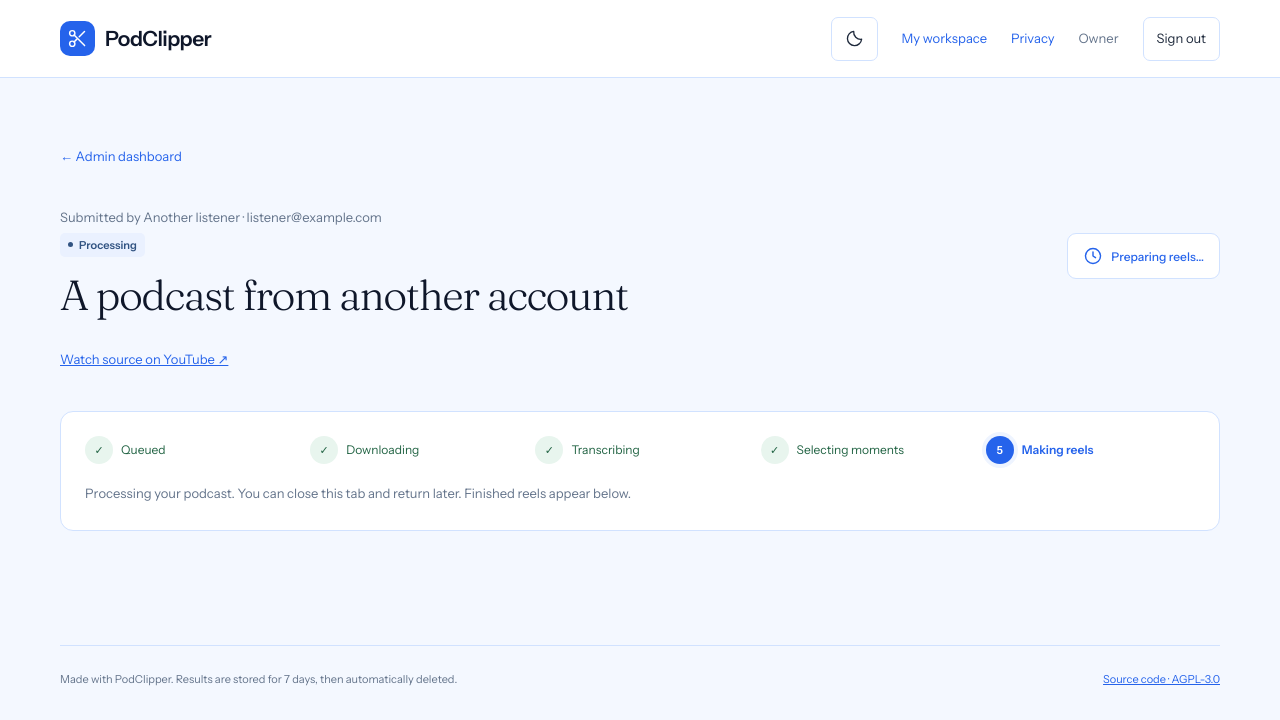
Test: opening an admin job directly then using its Back link returns to the list
The image size is (1280, 720).
Check: the heading "A podcast from another account" is shown, box [60,271,628,319]
What coordinates should you click on to do the following:
click the link "← Admin dashboard"
I would click on:
 (121, 156)
Its box is [60,148,182,164].
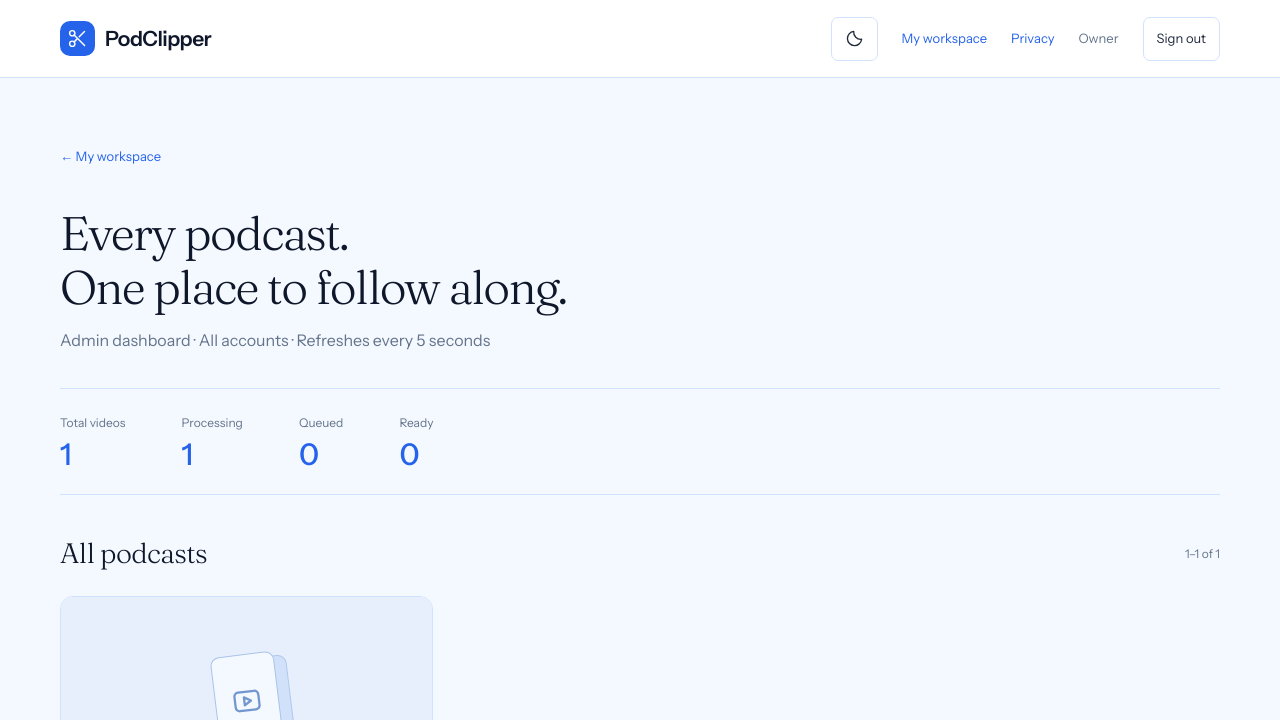
Check: the heading "All podcasts" is shown, box [60,531,207,576]
